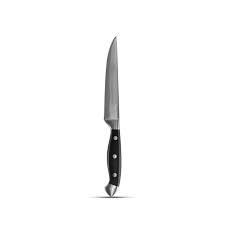Knife: (103, 35, 121, 196)
